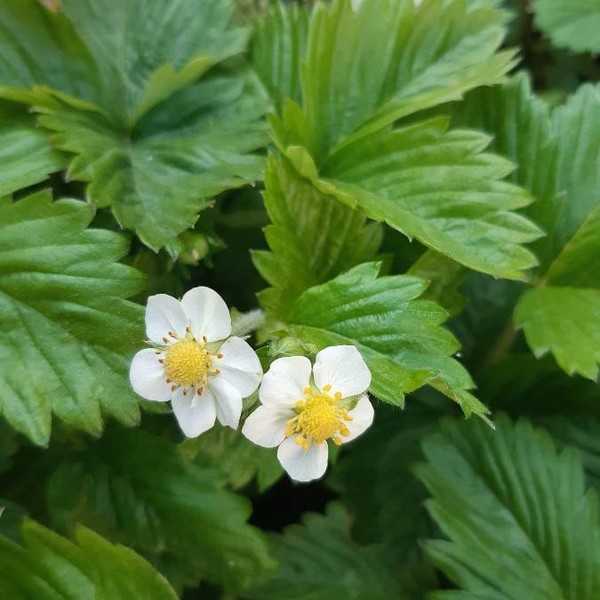obstacle: (137, 22, 507, 465), (59, 34, 243, 252), (410, 385, 577, 579)
